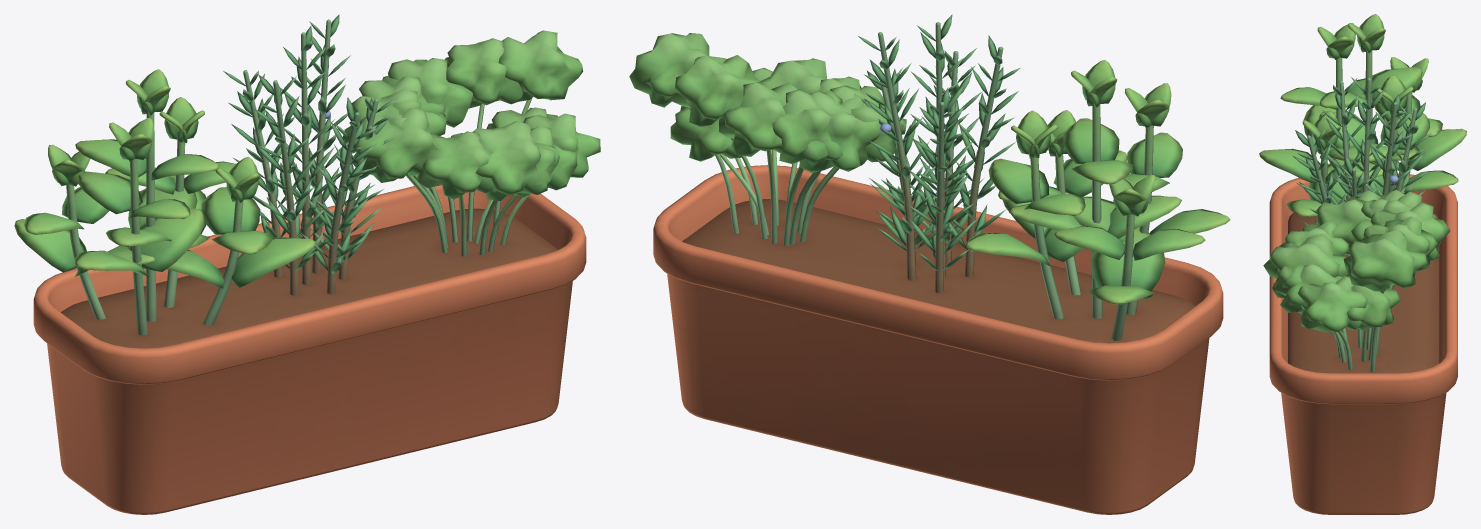
The model's file is herb-pot.glb.
3 renders of one model, left to right at view 1: azimuth 30°, elevation 25°; view 2: azimuth 150°, elevation 25°; view 3: azimuth 270°, elevation 25°, orthographic. The views are drawn at different scales.
Parts seen in each view (by area): view 1: herb-pot_body; view 2: herb-pot_body; view 3: herb-pot_body.
Part boxes in pixels (x1=…): herb-pot_body: x1=14, y1=14, x2=600, y2=514; herb-pot_body: x1=629, y1=14, x2=1230, y2=514; herb-pot_body: x1=1259, y1=14, x2=1466, y2=514.
Size of the model in its own units: 0.3412 by 0.2427 by 0.1326.
1 material, 1 textured.
